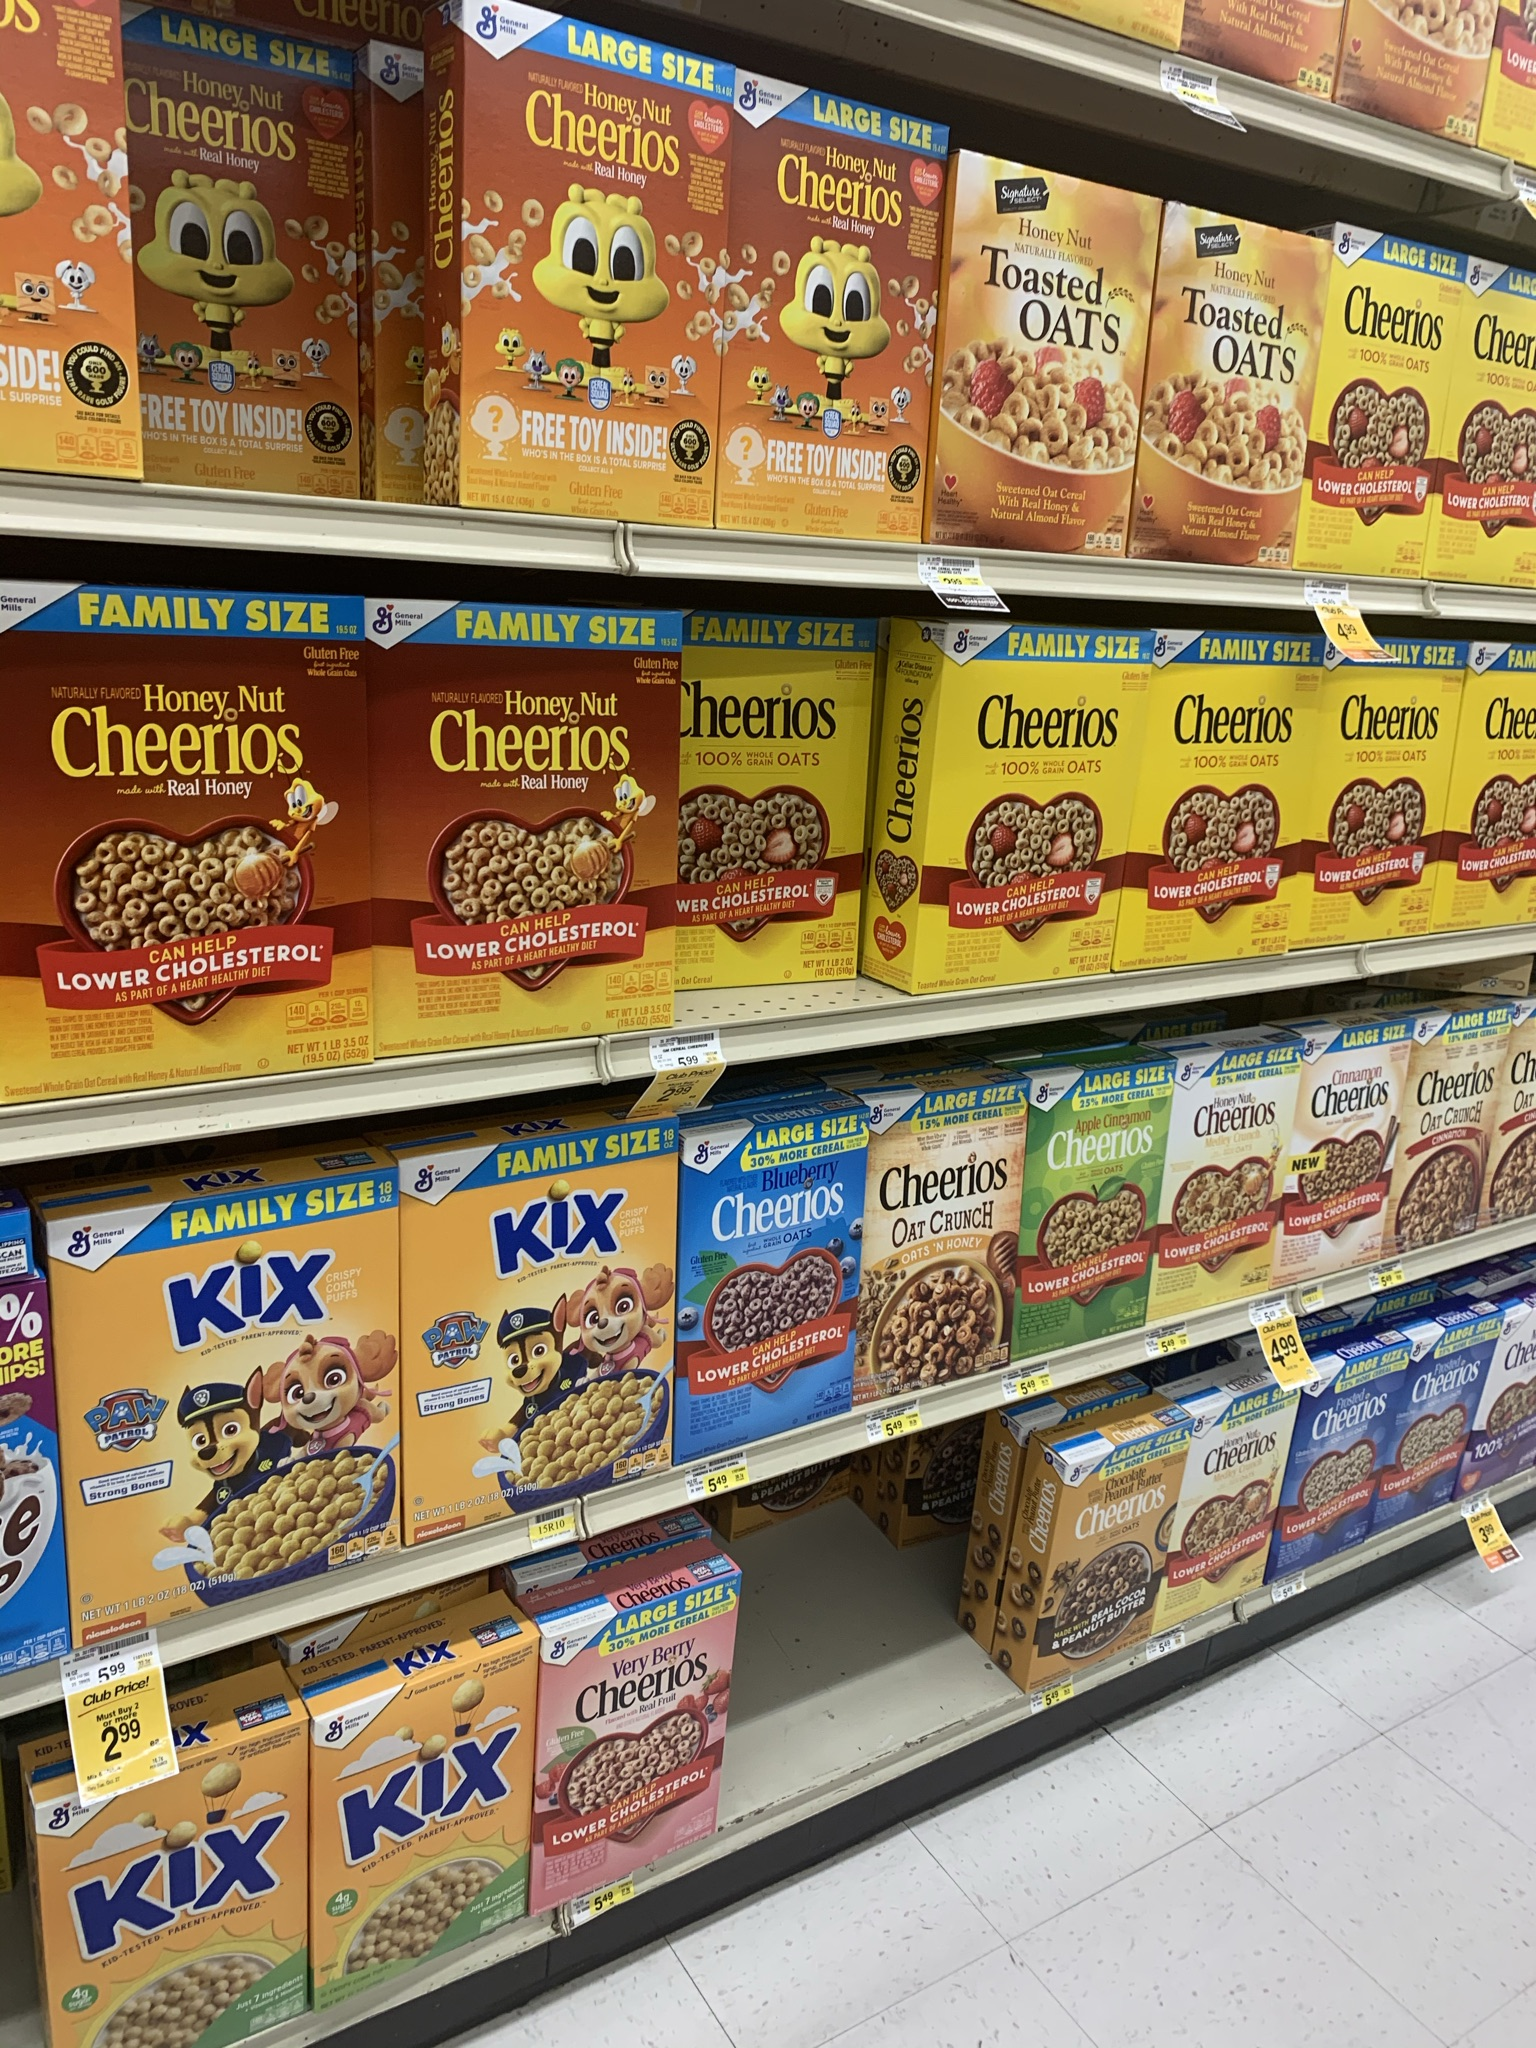cereal: (3, 597, 365, 1098), (42, 1213, 397, 1621), (461, 2, 724, 531), (371, 593, 670, 1051), (118, 42, 365, 493), (394, 1150, 676, 1506), (739, 87, 950, 540), (26, 1713, 298, 2046), (294, 1638, 531, 1992), (952, 147, 1139, 568), (670, 608, 866, 984), (921, 614, 1113, 987), (531, 1585, 729, 1904), (676, 1114, 852, 1455), (1137, 631, 1292, 964), (866, 1074, 1016, 1409), (1162, 198, 1296, 574), (1300, 632, 1447, 947), (1044, 1419, 1186, 1705), (1028, 1055, 1150, 1371), (1331, 231, 1439, 576), (1431, 247, 1536, 577), (1162, 1032, 1275, 1327), (1296, 1026, 1392, 1284), (1178, 1380, 1279, 1621), (1391, 1000, 1486, 1256), (1297, 1353, 1379, 1588), (1391, 1319, 1476, 1542)
